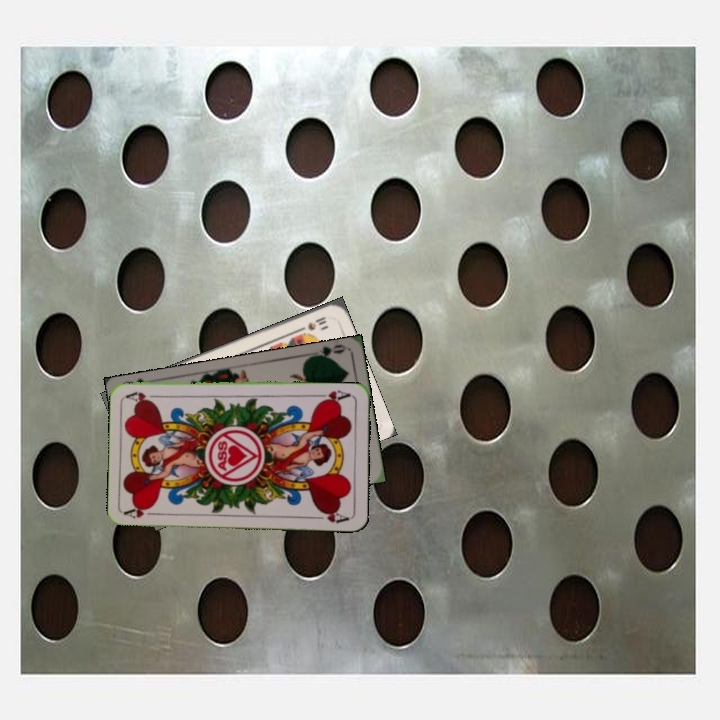GO: (307, 341, 347, 363)
HA: (313, 386, 353, 406), (122, 503, 163, 521)
S10: (294, 312, 329, 334)
